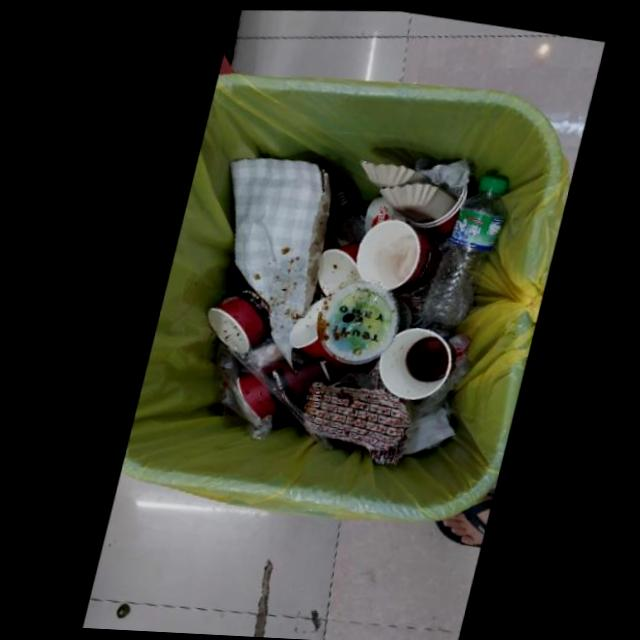carton: (300, 377, 406, 446), (352, 217, 439, 288), (376, 326, 453, 398), (286, 294, 351, 367), (203, 280, 267, 350), (259, 355, 327, 401), (234, 370, 283, 415), (314, 245, 358, 292), (355, 156, 423, 186)
chai_nhua_pet: (419, 174, 503, 323)
giay: (224, 153, 317, 360), (374, 180, 452, 221)
